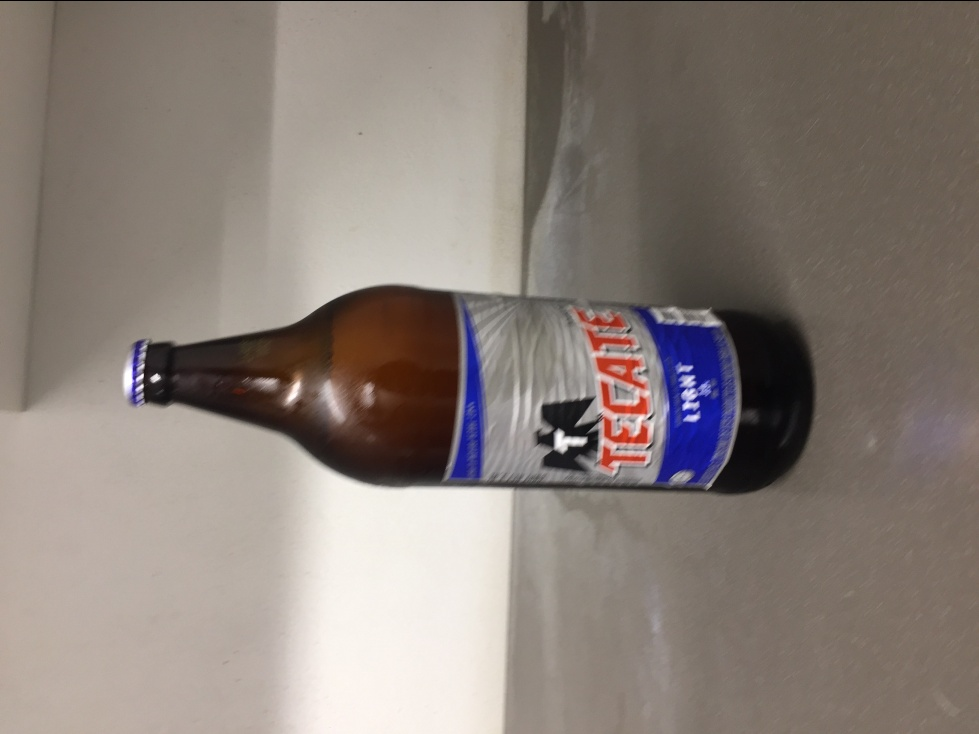tecateC: (123, 283, 816, 496)
